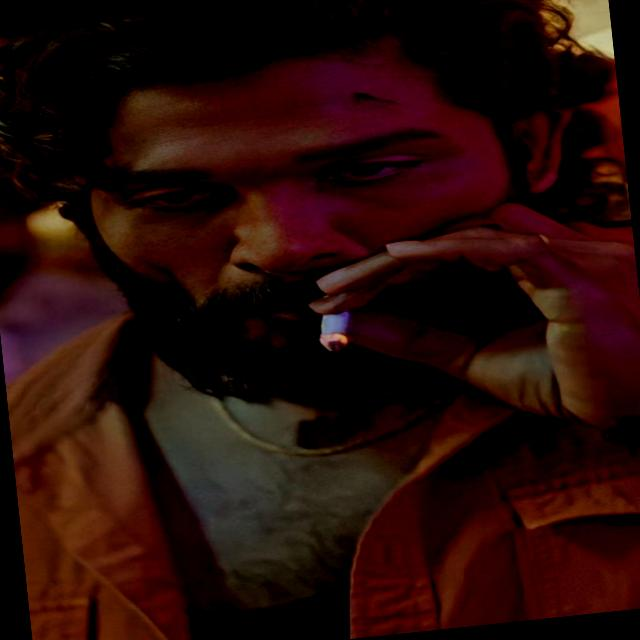smoke: (306, 274, 362, 380)
